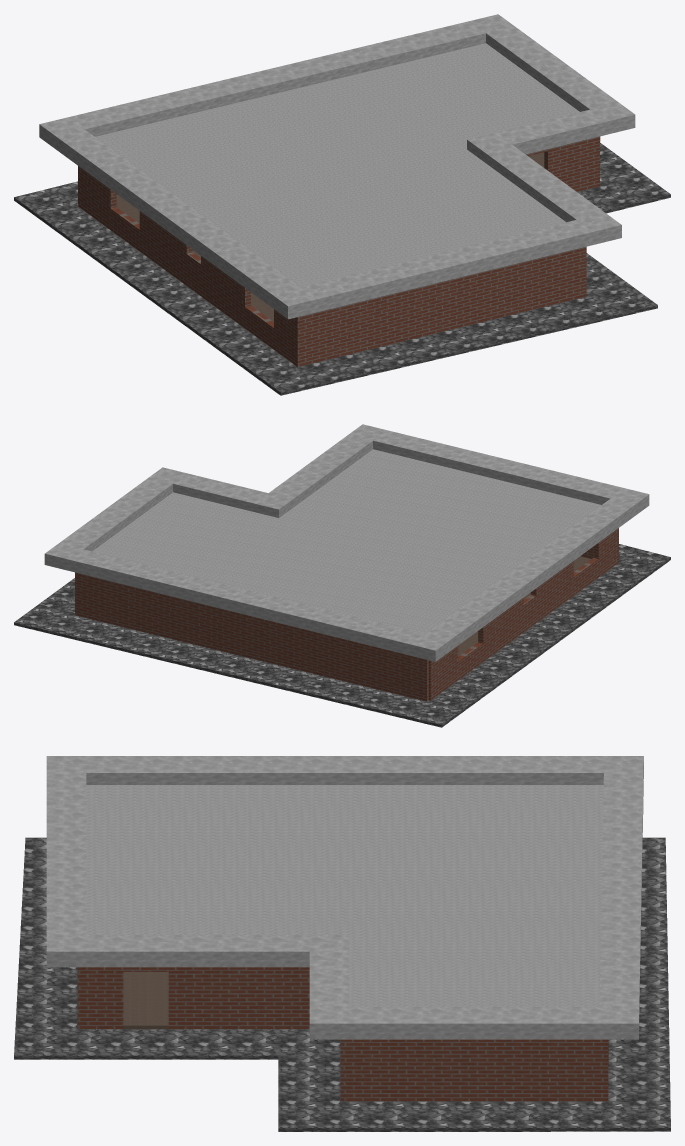
File: forro 1.fbx
3 renders of one model, top to bottom at view 1: azimuth 30°, elevation 25°; view 2: azimuth 150°, elevation 25°; view 3: azimuth 270°, elevation 25°, orthographic. The views are drawn at different scales.
Parts seen in each view (by area): view 1: Line011, Line015, Line001, Line013, Line014; view 2: Line011, Line015, Line001, Line013; view 3: Line011, Line015, Line013, Line001, Line014.
Part boxes in pixels (x1=…): Line011: x1=95, y1=43, x2=579, y2=286; Line015: x1=39, y1=14, x2=635, y2=319; Line001: x1=78, y1=136, x2=600, y2=366; Line013: x1=14, y1=142, x2=670, y2=395; Line014: x1=116, y1=152, x2=544, y2=321; Line011: x1=92, y1=449, x2=601, y2=633; Line015: x1=44, y1=424, x2=649, y2=661; Line001: x1=75, y1=528, x2=618, y2=701; Line013: x1=14, y1=544, x2=670, y2=727; Line011: x1=86, y1=785, x2=603, y2=1006; Line015: x1=46, y1=756, x2=643, y2=1039; Line013: x1=14, y1=837, x2=670, y2=1131; Line001: x1=77, y1=967, x2=608, y2=1101; Line014: x1=123, y1=972, x2=168, y2=1029.
Bounding box in the file's own units: 158 × 24.02 × 151.
